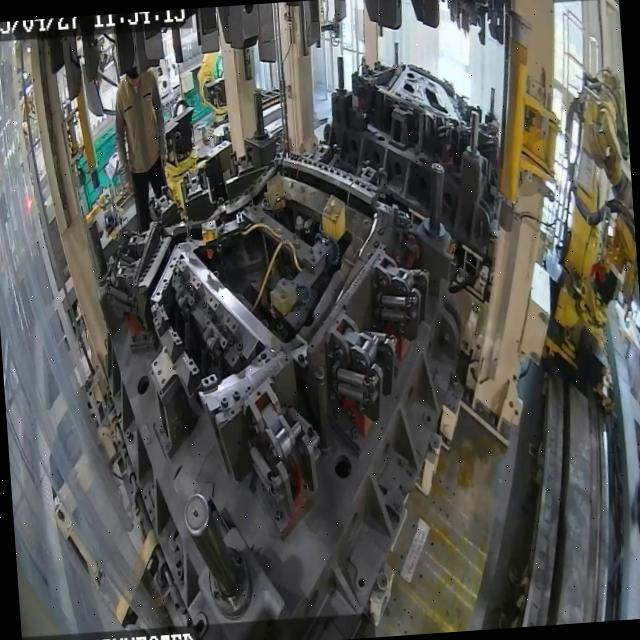Person: (110, 62, 172, 234)
